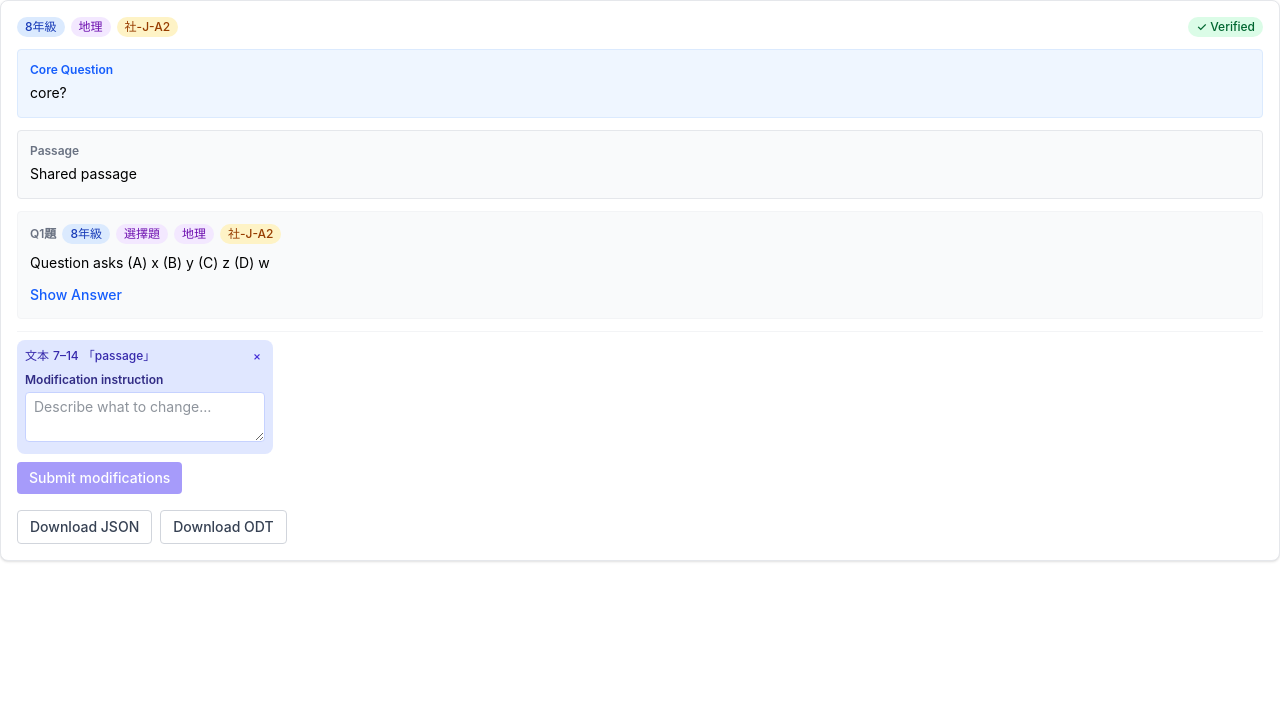
Test: QuestionCard 人工審題修正 run lifecycle › renders the updated chart_spec from the modification result
The image size is (1280, 720).
Type "Fix the passage" into the text box named "Modification instruction 1" at (145, 417), box [25,392,265,442]
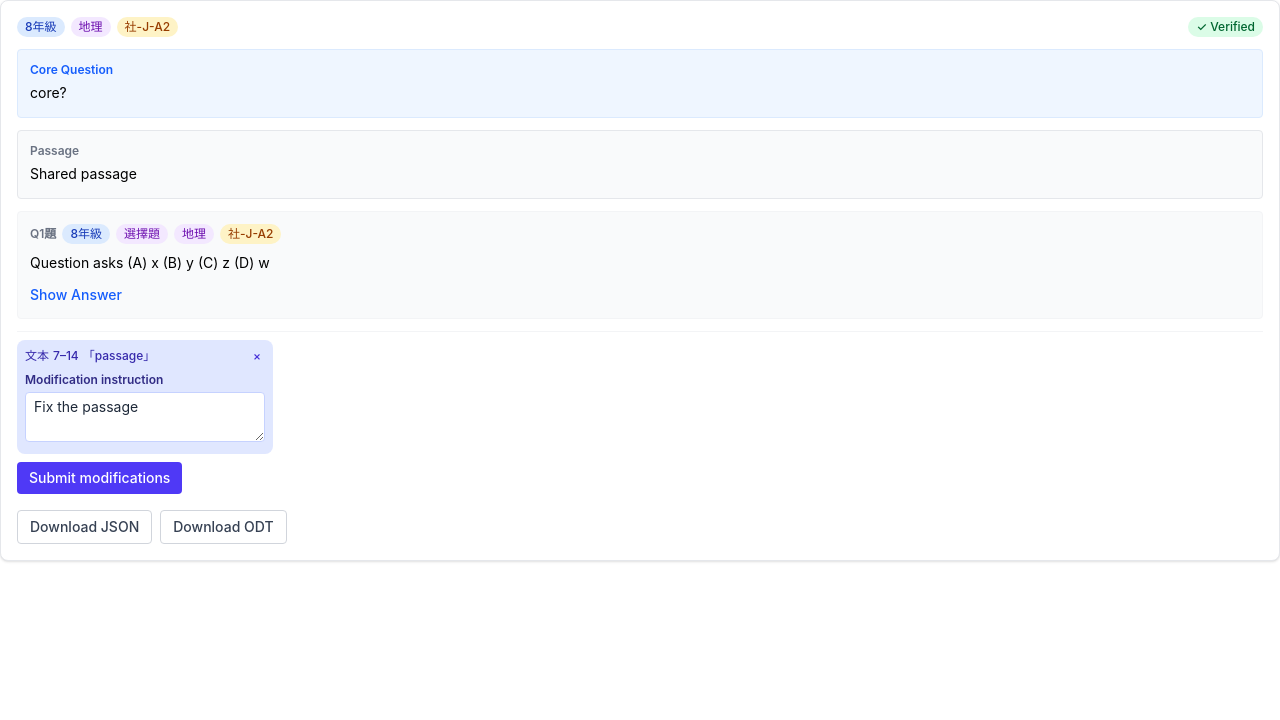
Click the button "Submit modifications" at (100, 478), box [17,462,182,494]
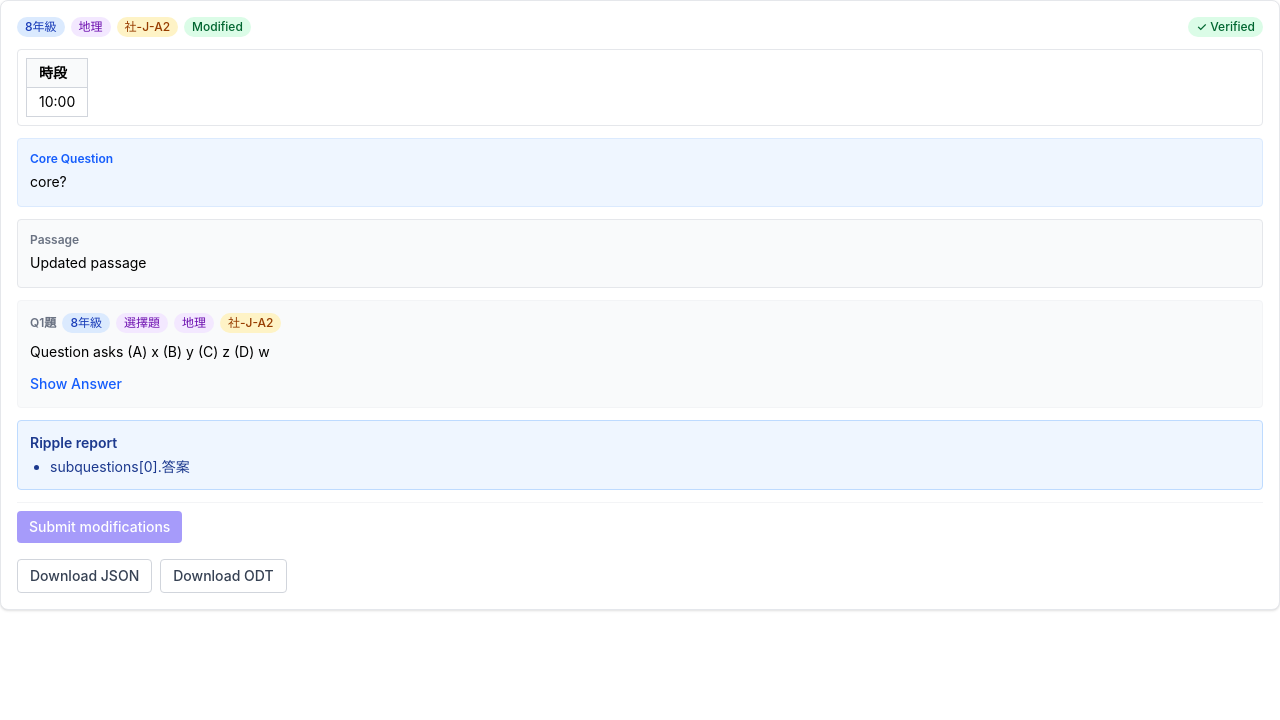
Check: the table is shown, box [26,58,88,117]
Check: the text "10:00" is shown, box [26,88,88,116]
